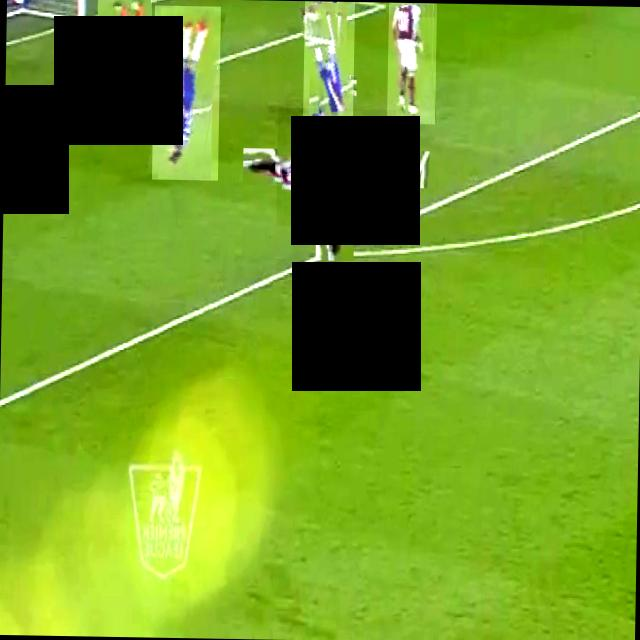soccer-player: (274, 106, 394, 226), (150, 4, 220, 179), (386, 1, 436, 123), (301, 0, 353, 117), (95, 0, 150, 48), (410, 2, 436, 15)
